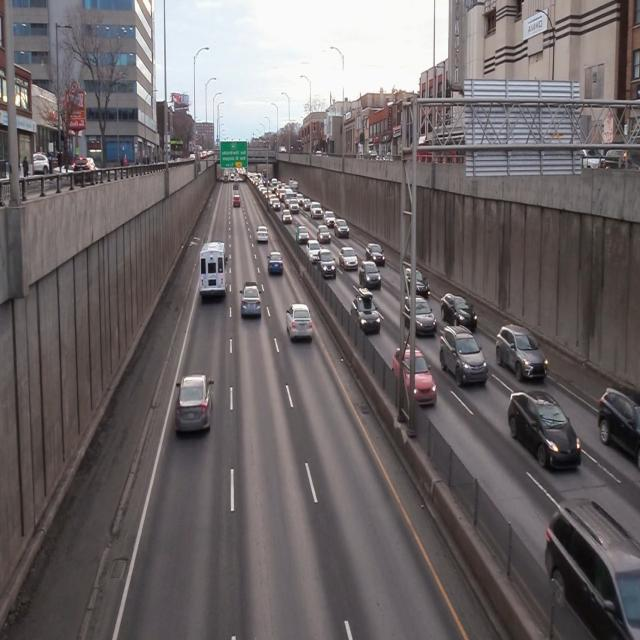Vehicle: (508, 397, 581, 471), (494, 322, 548, 383), (388, 346, 438, 411), (438, 325, 487, 390), (174, 374, 214, 434), (196, 237, 230, 301), (437, 291, 482, 331), (351, 287, 382, 335), (403, 291, 434, 336), (285, 299, 313, 341), (238, 281, 262, 319)
